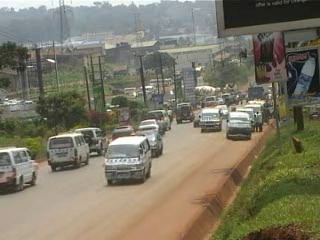Car: (72, 125, 110, 155), (135, 130, 164, 158), (171, 102, 196, 123), (111, 124, 137, 143), (136, 118, 160, 135), (191, 109, 204, 129), (213, 103, 229, 119)
Motorcycle: (164, 106, 175, 126)
